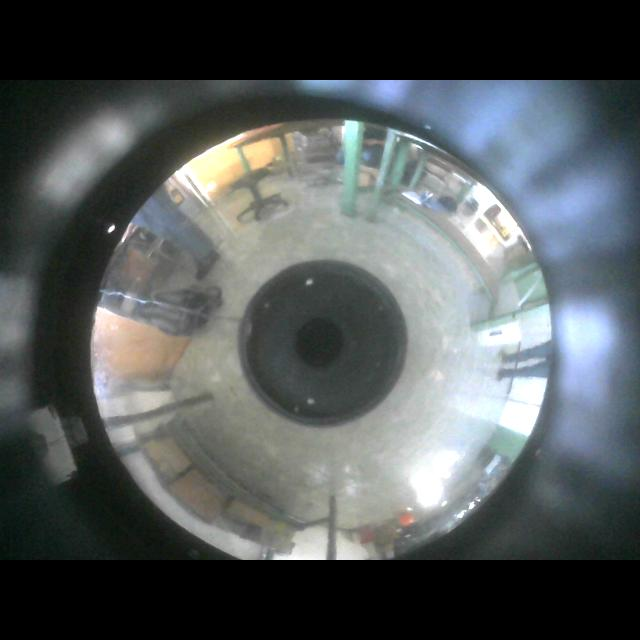bola: (397, 512, 414, 527)
